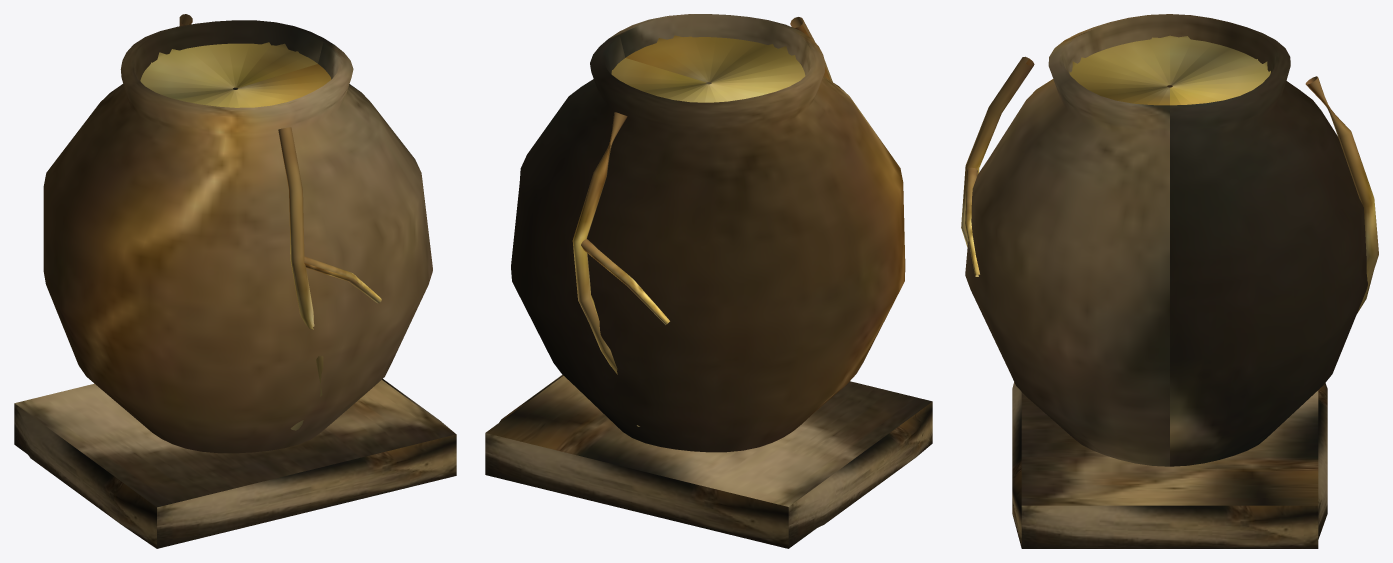
The model's file is treasure-jar.glb.
The picture shows the model from 3 angles, left to right: view 1: azimuth 30°, elevation 25°; view 2: azimuth 150°, elevation 25°; view 3: azimuth 270°, elevation 25°; orthographic projection. The views are drawn at different scales.
Parts seen in each view (by area): view 1: HeroRelicMonument; view 2: HeroRelicMonument; view 3: HeroRelicMonument.
Part boxes in pixels (x1,y1,x2,y2): HeroRelicMonument: (14, 14, 456, 548); HeroRelicMonument: (485, 14, 932, 548); HeroRelicMonument: (961, 14, 1378, 548).
Size of the model in its own units: 1.44 by 1.62 by 1.48.
1 material, 1 textured.
